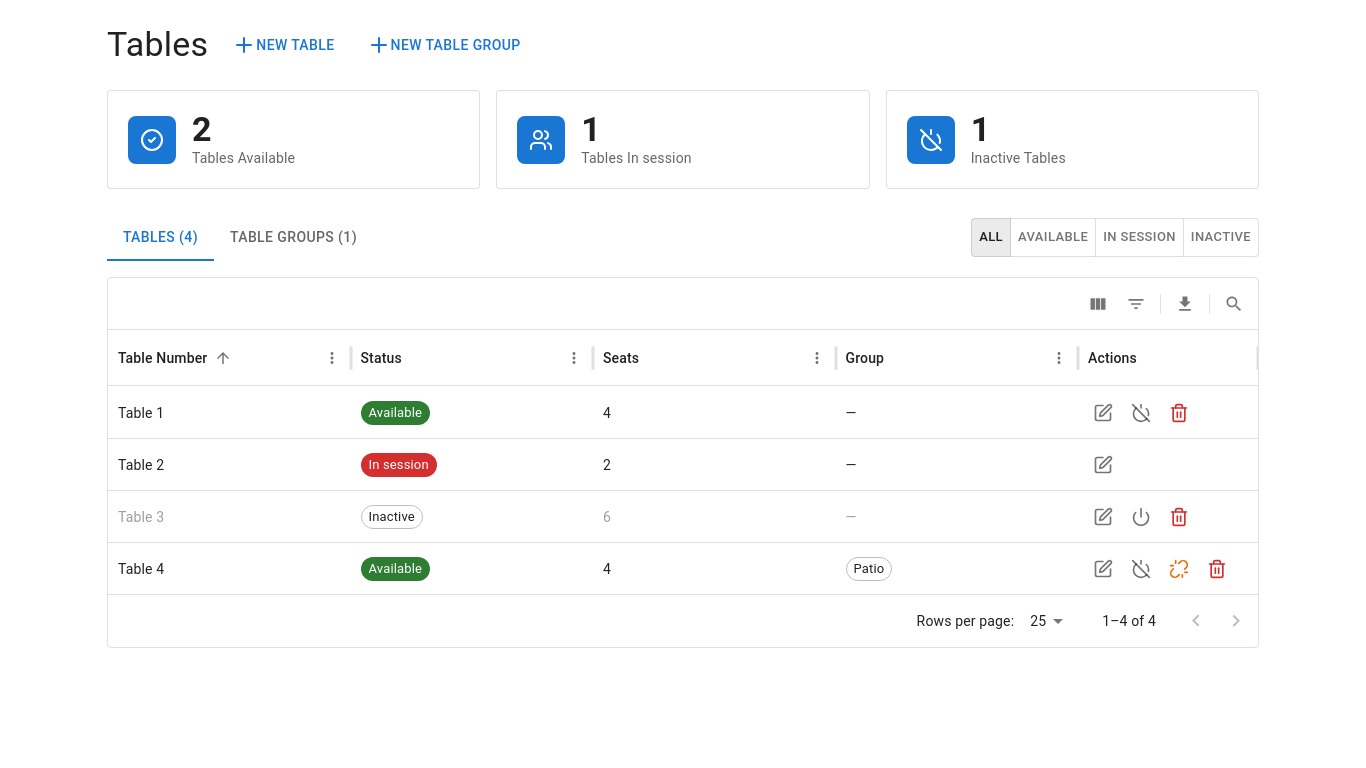
Table dashboard › lists table groups with their tables and seats
This screenshot has width=1366, height=768.
Check: the text "Table 1" is shown, box [118,405,164,421]
Click the tab "Table groups (1)".
click(294, 237)  # box [214,213,373,261]
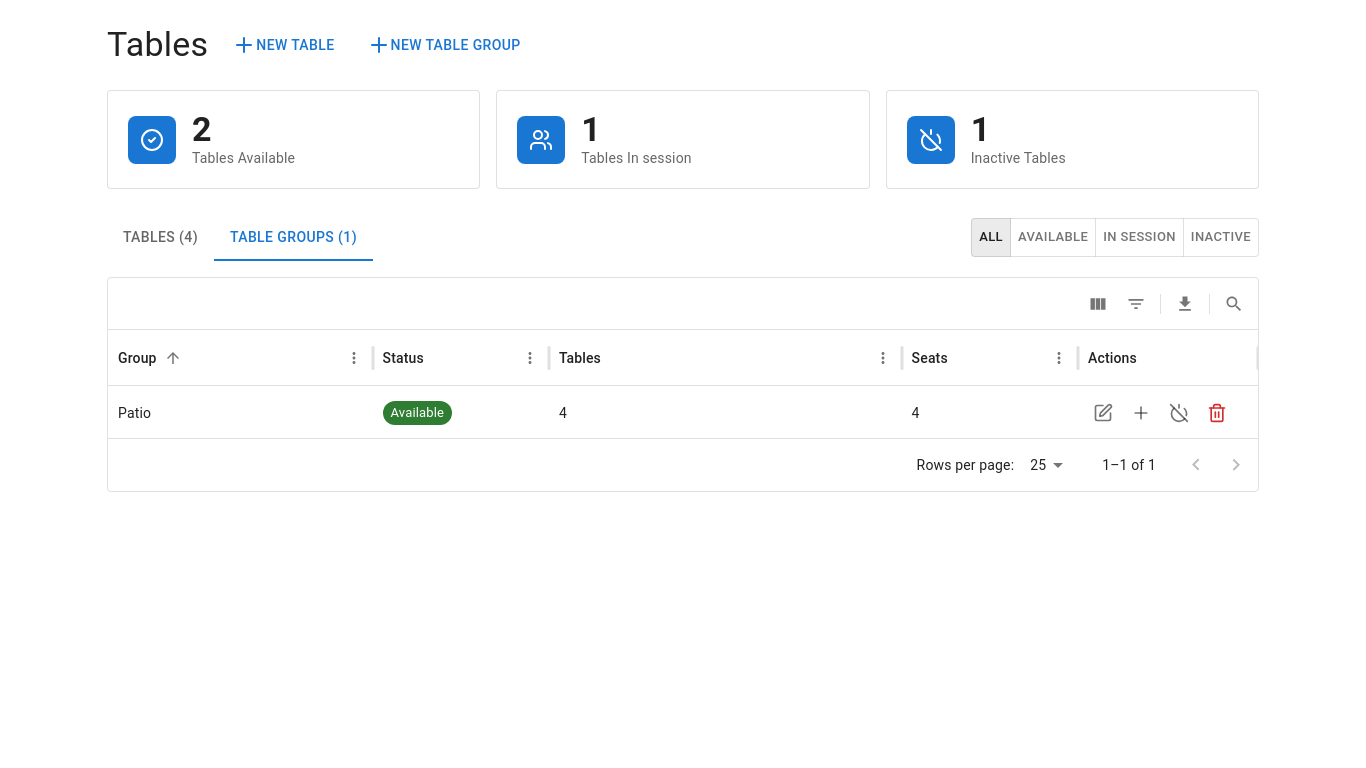
Check: the text "Available" is shown, box [390,405,444,420]
Check: the text "4" is shown 2 times, box [559,405,567,421]; [912,405,920,421]
